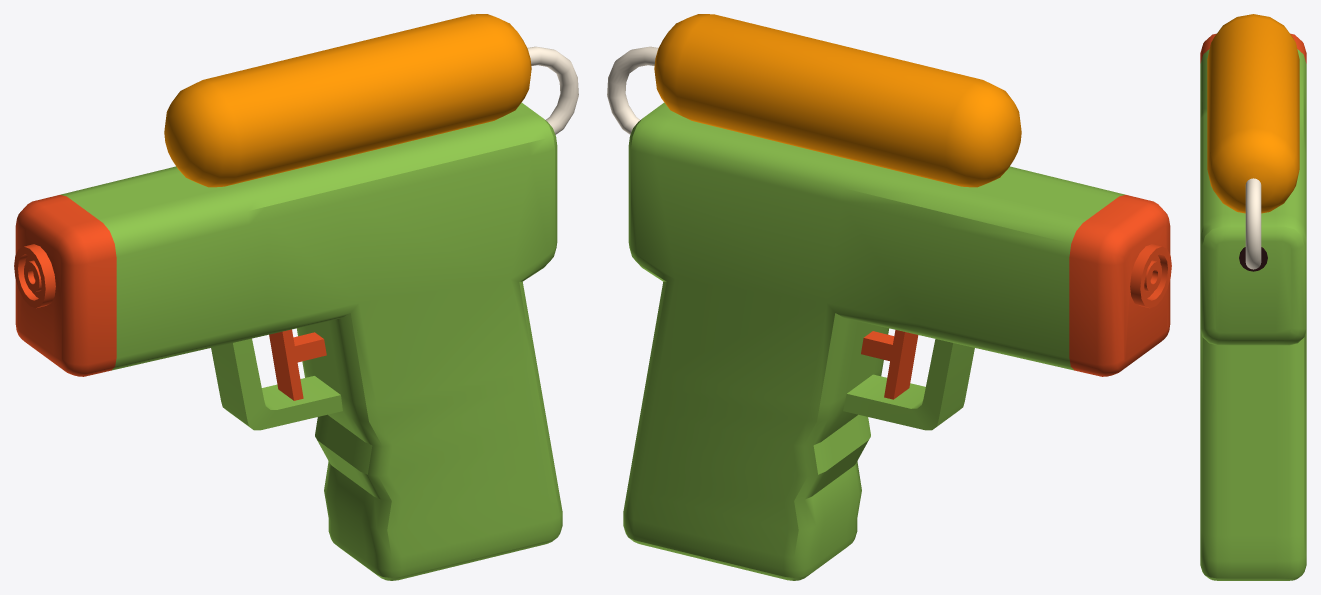
The model's file is water_pistol.glb.
The picture shows the model from 3 angles, left to right: view 1: azimuth 30°, elevation 25°; view 2: azimuth 150°, elevation 25°; view 3: azimuth 270°, elevation 25°; orthographic projection. The views are drawn at different scales.
Visible parts, largest first — view 1: Cube.996; view 2: Cube.996; view 3: Cube.996.
Boxes of the visible parts, x1,y1,x2,y2 form: Cube.996: [14, 14, 578, 580]; Cube.996: [607, 14, 1171, 580]; Cube.996: [1200, 14, 1306, 580].
Size of the model in its own units: 2.16 by 1.95 by 0.432.
Materials: 1 (1 with a texture image).
